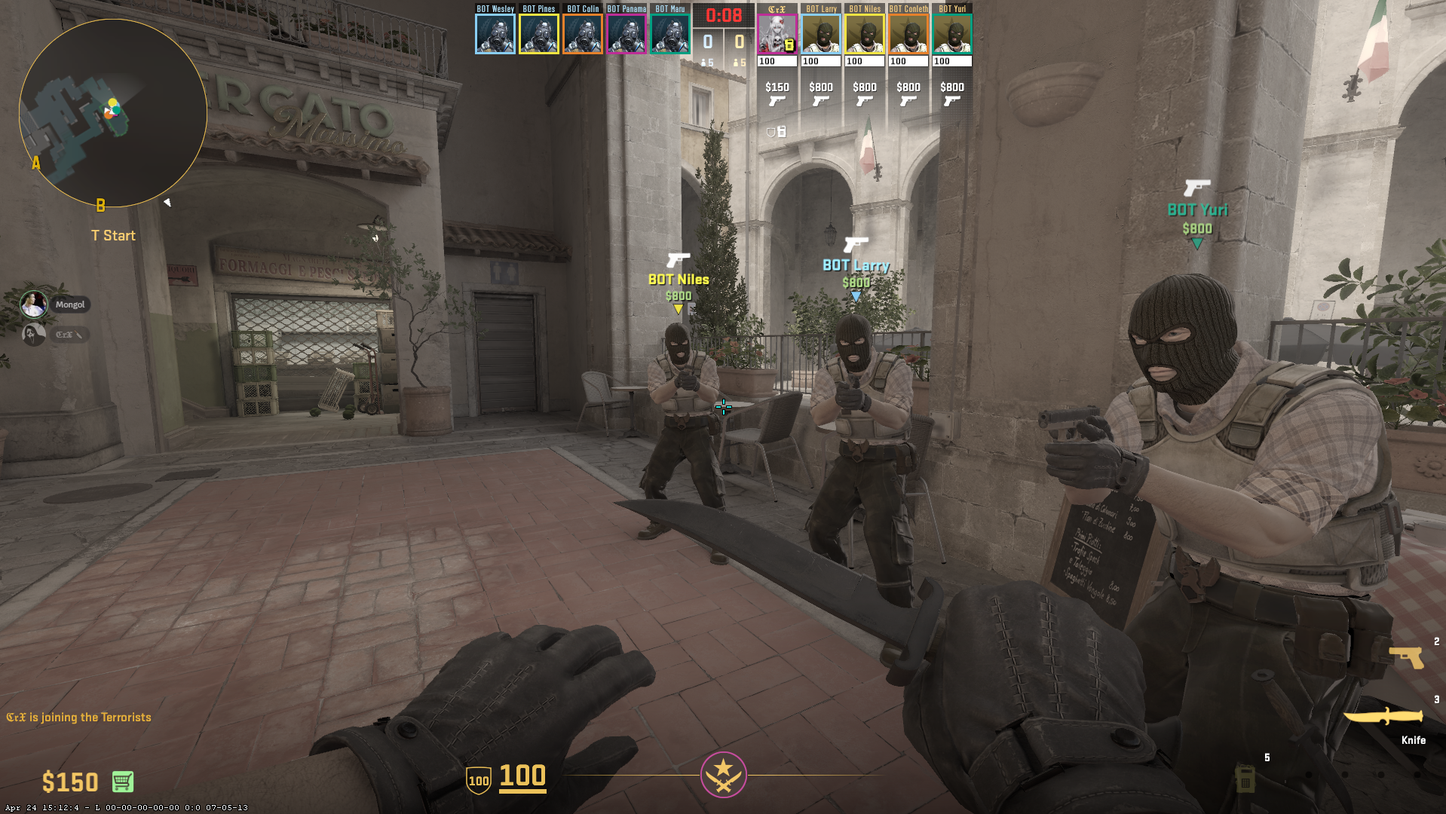T: (1053, 271, 1402, 619), (810, 315, 915, 556), (640, 322, 721, 498)
